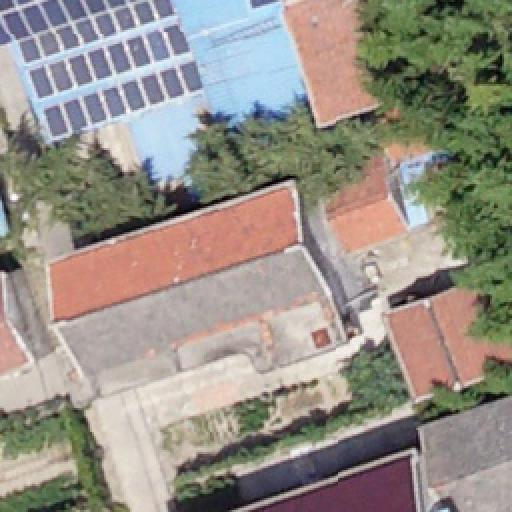solar-panel: (1, 2, 211, 150)
